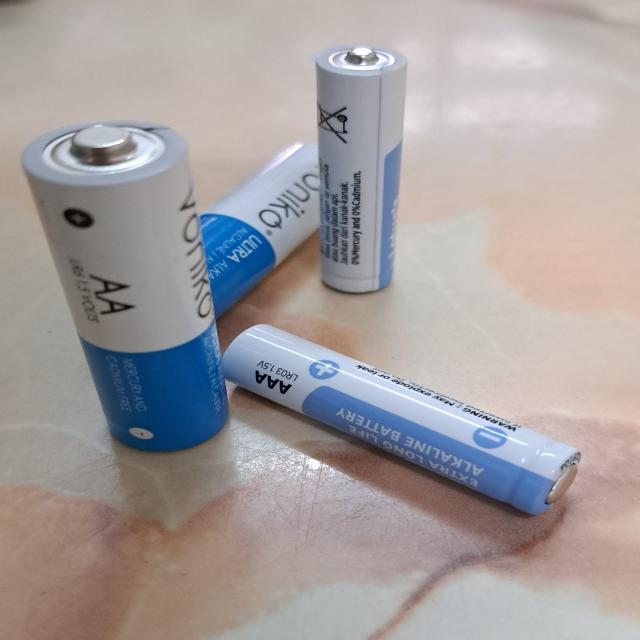battery: (222, 323, 584, 518), (19, 121, 232, 452), (314, 45, 408, 294), (196, 138, 318, 314)
